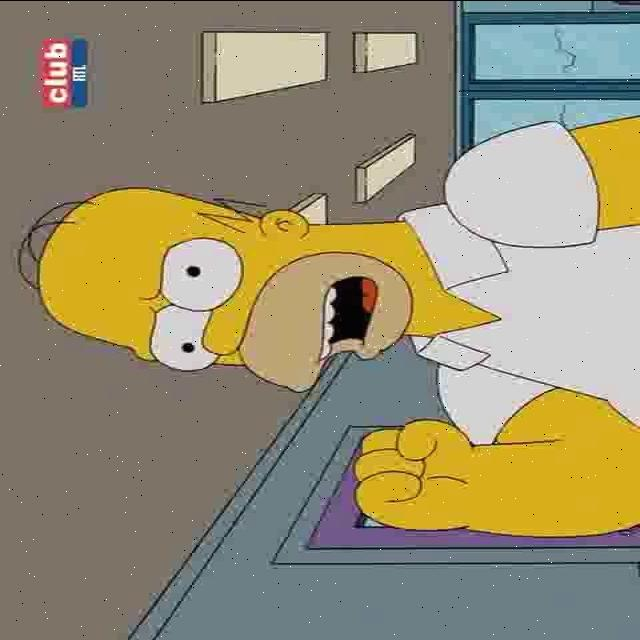Homer Simpson: (16, 185, 428, 393)
